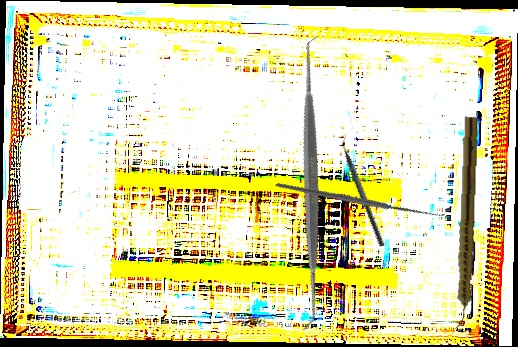Chopper: (335, 131, 392, 248)
Handpiece: (452, 116, 479, 330)
Hook Surgical: (275, 113, 449, 282)
Spatula Surgical: (162, 34, 459, 332)
